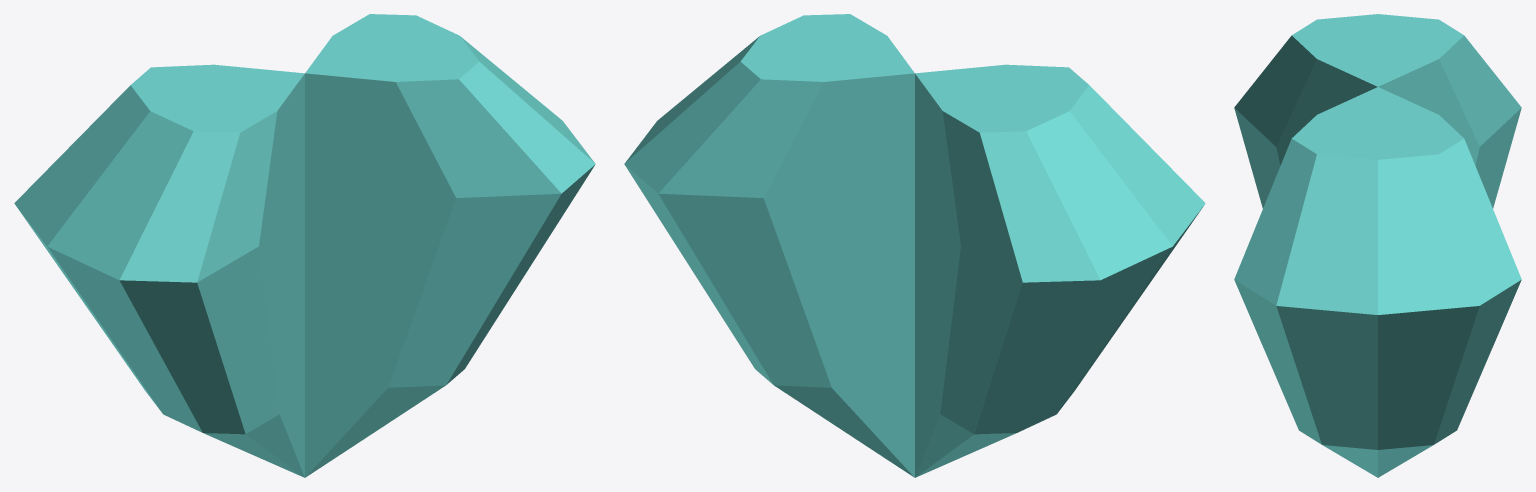
Rendered from turquoise.glb.
3 renders of one model, left to right at view 1: azimuth 30°, elevation 25°; view 2: azimuth 150°, elevation 25°; view 3: azimuth 270°, elevation 25°, orthographic. The views are drawn at different scales.
Size of the model in its own units: 0.25 by 0.1875 by 0.125.
